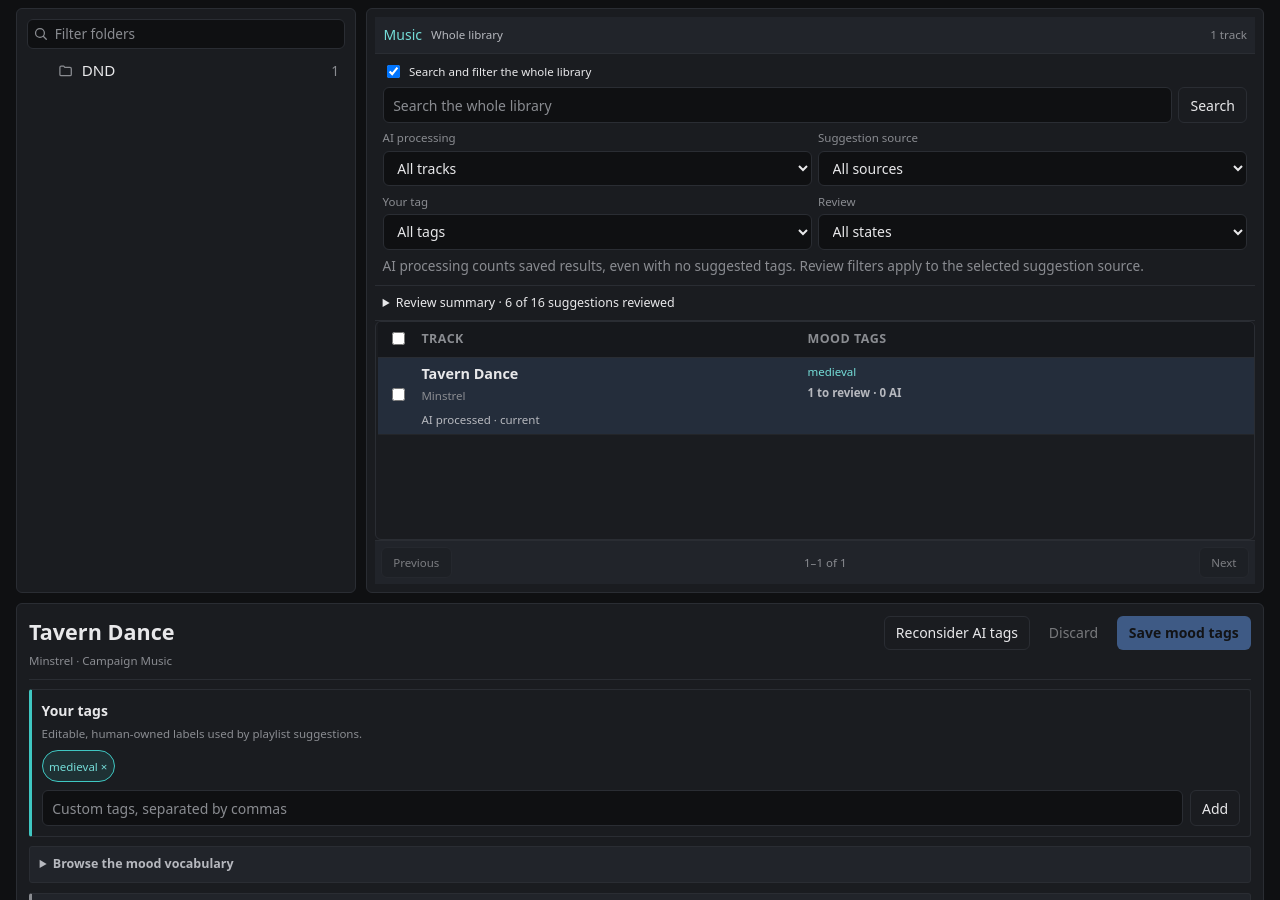
Test case: LibraryTagEditor › hides stale counts during a failed refresh and restores them on retry
This screenshot has width=1280, height=900.
Check: the heading "Review summary · 6 of 16 suggestions reviewed" is shown, box x1=396 y1=294 x2=675 y2=311
Select "Rejected suggestions" in the dropdown named "Filter analysis review" at (1032, 232), box x1=818 y1=214 x2=1247 y2=250
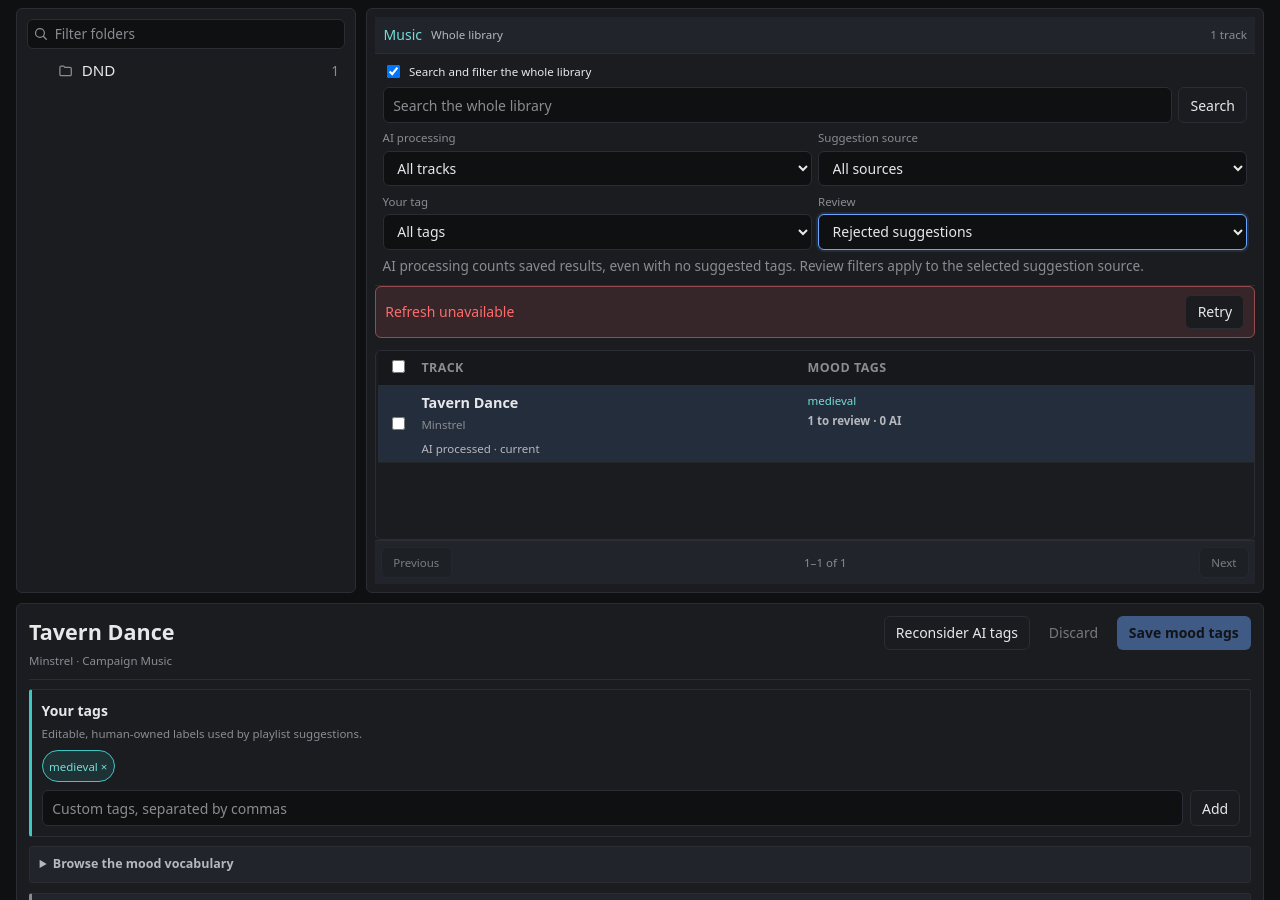
Check: the text "Refresh unavailable" is shown, box x1=385 y1=301 x2=514 y2=322
Check: the heading "Review summary" is gone
Click the button "Retry" at (1215, 312), box x1=1185 y1=295 x2=1244 y2=329
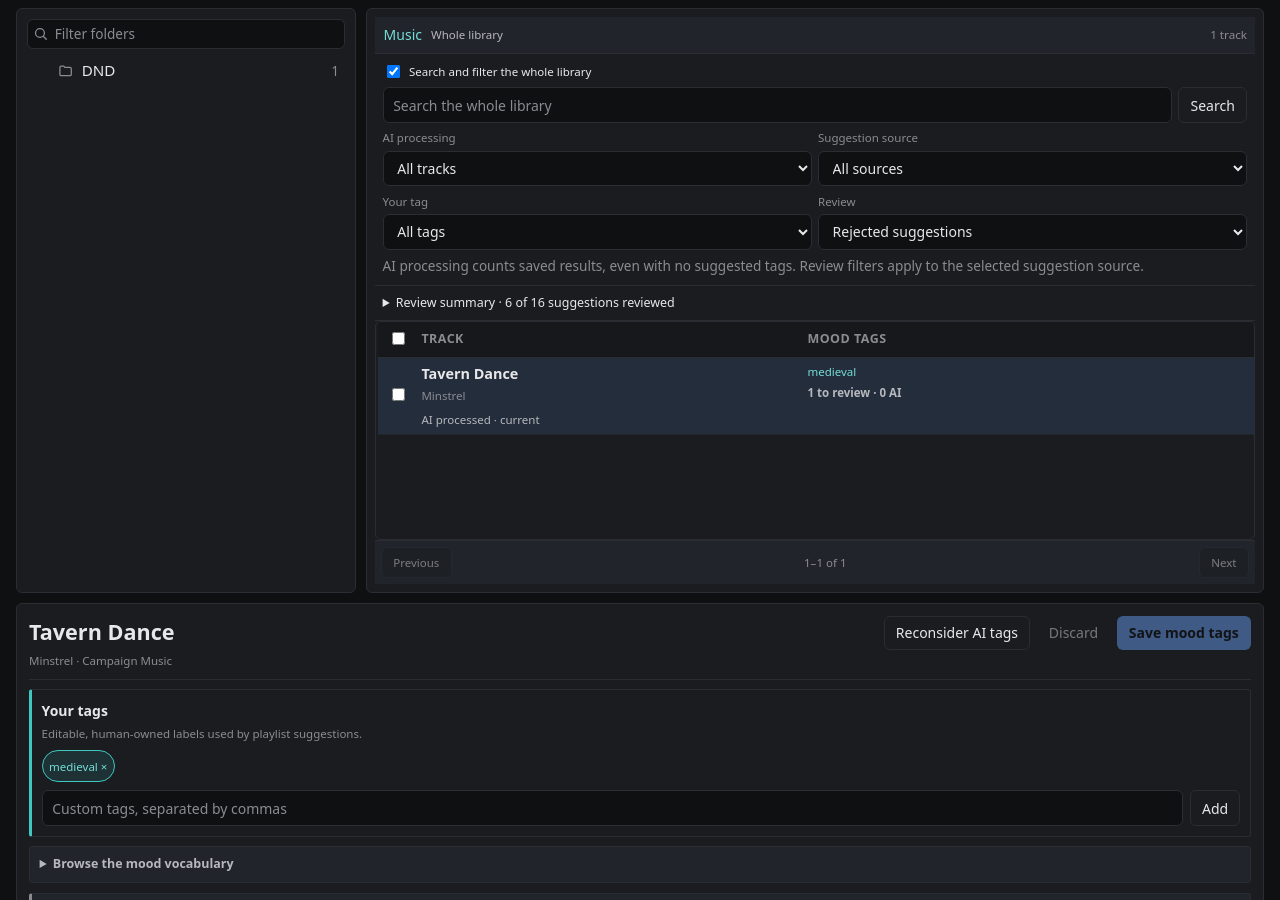
Check: the heading "Review summary · 6 of 16 suggestions reviewed" is shown, box x1=396 y1=294 x2=675 y2=311
